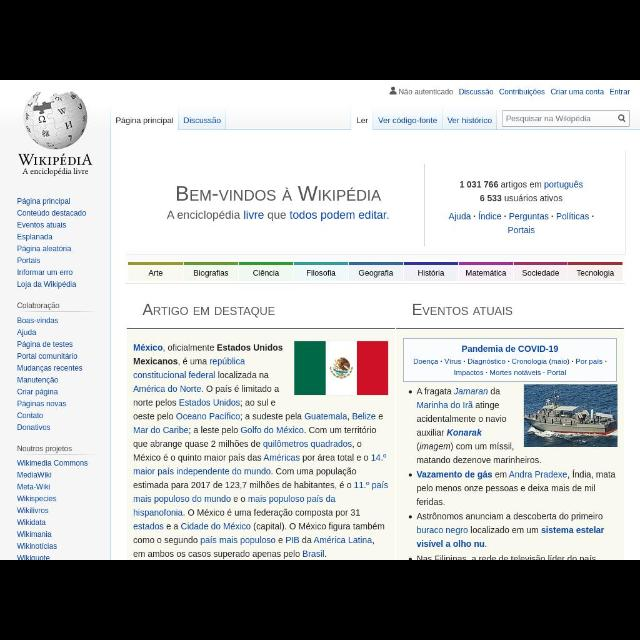icon: (618, 114, 626, 122), (389, 87, 397, 95)
image: (16, 90, 96, 176), (524, 384, 618, 448), (294, 341, 388, 395)
input: (502, 110, 630, 128)
text: (132, 410, 390, 558), (408, 454, 616, 548), (132, 343, 284, 407), (407, 384, 515, 452), (174, 184, 383, 204), (446, 208, 594, 236), (412, 358, 608, 377), (164, 208, 390, 224), (142, 303, 276, 319), (456, 179, 584, 191), (413, 304, 513, 316), (462, 344, 558, 354), (478, 194, 566, 204), (17, 208, 87, 218), (16, 196, 74, 208), (506, 115, 592, 123), (17, 363, 83, 373), (17, 279, 77, 289), (17, 352, 77, 362), (17, 268, 74, 278), (17, 244, 72, 254), (551, 87, 605, 97), (115, 116, 175, 125), (17, 444, 71, 454), (17, 220, 67, 230), (18, 398, 68, 408), (17, 459, 88, 466), (377, 117, 437, 125), (16, 341, 74, 349), (18, 387, 60, 398), (18, 300, 60, 310), (17, 375, 59, 385), (498, 88, 546, 96), (400, 88, 454, 95), (18, 232, 54, 242), (183, 116, 221, 125), (17, 316, 59, 324), (18, 422, 50, 432), (17, 542, 57, 550), (18, 495, 56, 503), (458, 87, 494, 95), (16, 530, 52, 538), (447, 118, 493, 124), (18, 410, 44, 420), (18, 482, 50, 490), (18, 256, 42, 266), (18, 518, 46, 526), (609, 87, 631, 97), (16, 472, 52, 478), (16, 554, 49, 560), (17, 508, 49, 514), (17, 329, 38, 337), (356, 117, 369, 125)
textbutton: (238, 262, 294, 284), (458, 262, 514, 284), (295, 262, 349, 284), (350, 262, 404, 284), (514, 262, 568, 284), (406, 262, 458, 284), (128, 262, 182, 282), (185, 262, 239, 282), (568, 262, 622, 282)
toolbar: (111, 81, 639, 130)
